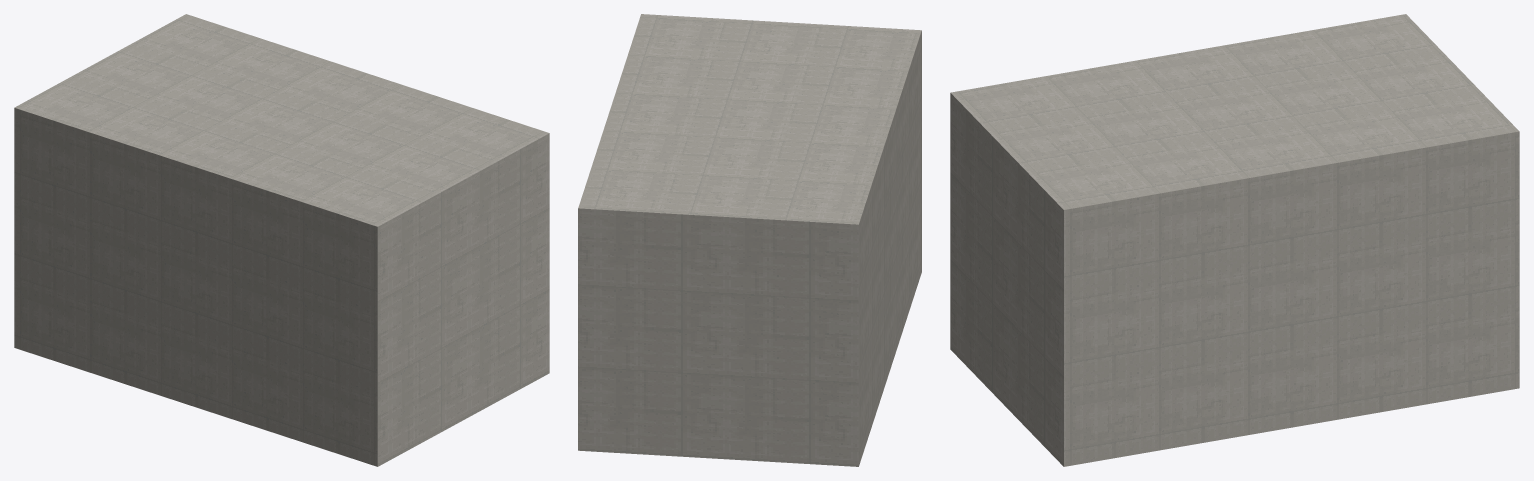
File: kd_connection_world-outer_surface_11_0.glb
The picture shows the model from 3 angles, left to right: view 1: azimuth 30°, elevation 25°; view 2: azimuth 150°, elevation 25°; view 3: azimuth 270°, elevation 25°; orthographic projection. The views are drawn at different scales.
Parts seen in each view (by area): view 1: kd_connection_world-outer_surface_11_0; view 2: kd_connection_world-outer_surface_11_0; view 3: kd_connection_world-outer_surface_11_0.
Boxes of the visible parts, left/top/right/bottom form: kd_connection_world-outer_surface_11_0: left=14, top=14, right=549, bottom=466; kd_connection_world-outer_surface_11_0: left=578, top=14, right=921, bottom=466; kd_connection_world-outer_surface_11_0: left=950, top=14, right=1519, bottom=466.
Size of the model in its own units: 131 by 80.26 by 161.
1 material, 1 textured.
